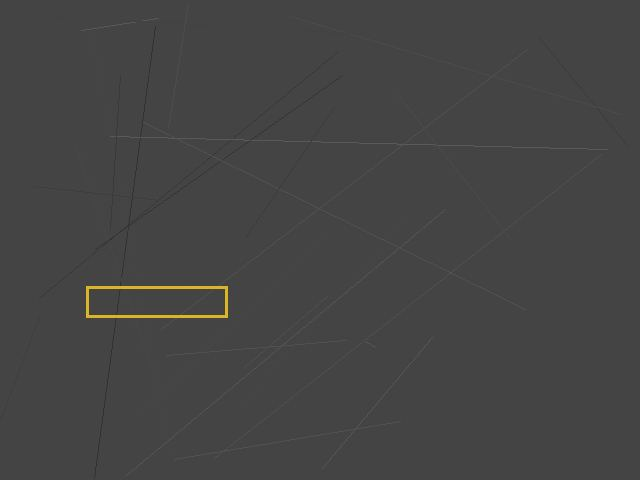D00: (86, 286, 227, 317)
